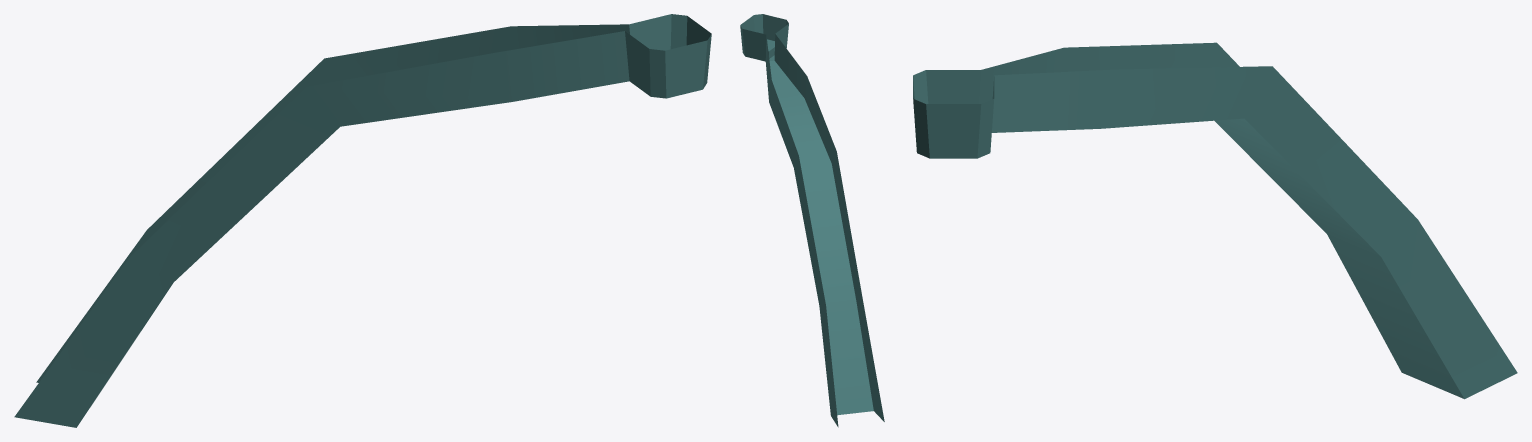
Rendered from OpenTop_Corner.fbx.
The picture shows the model from 3 angles, left to right: view 1: azimuth 30°, elevation 25°; view 2: azimuth 150°, elevation 25°; view 3: azimuth 270°, elevation 25°; orthographic projection. The views are drawn at different scales.
Visible parts, largest first — view 1: OpenTop_Corner; view 2: OpenTop_Corner; view 3: OpenTop_Corner.
Part boxes in pixels (box(x1,y1,x2,y2)): OpenTop_Corner: box(14, 14, 711, 427); OpenTop_Corner: box(740, 14, 884, 427); OpenTop_Corner: box(913, 42, 1517, 399).
Bounding box in the file's own units: 214 × 196 × 214.
